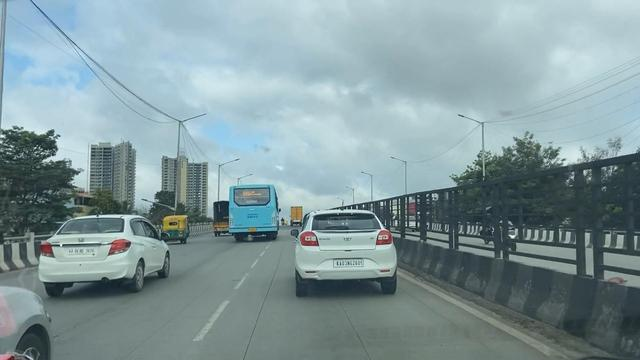HMV: (228, 179, 282, 250)
LMV: (287, 205, 422, 304)
